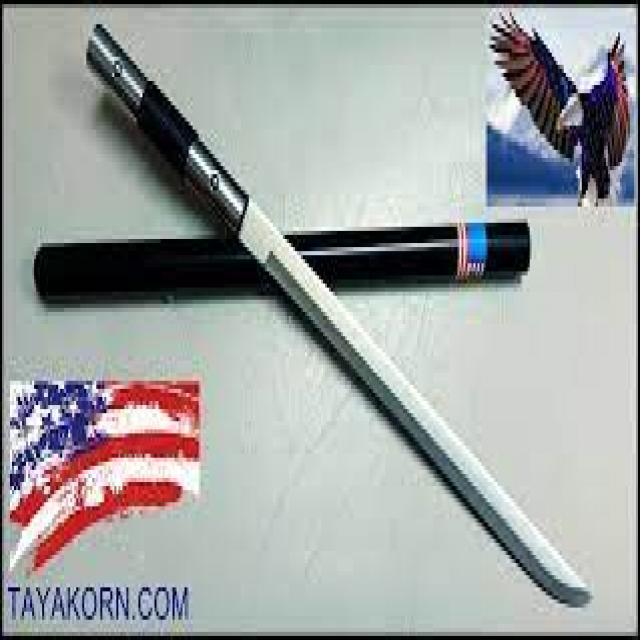long sword: (82, 21, 593, 616)
